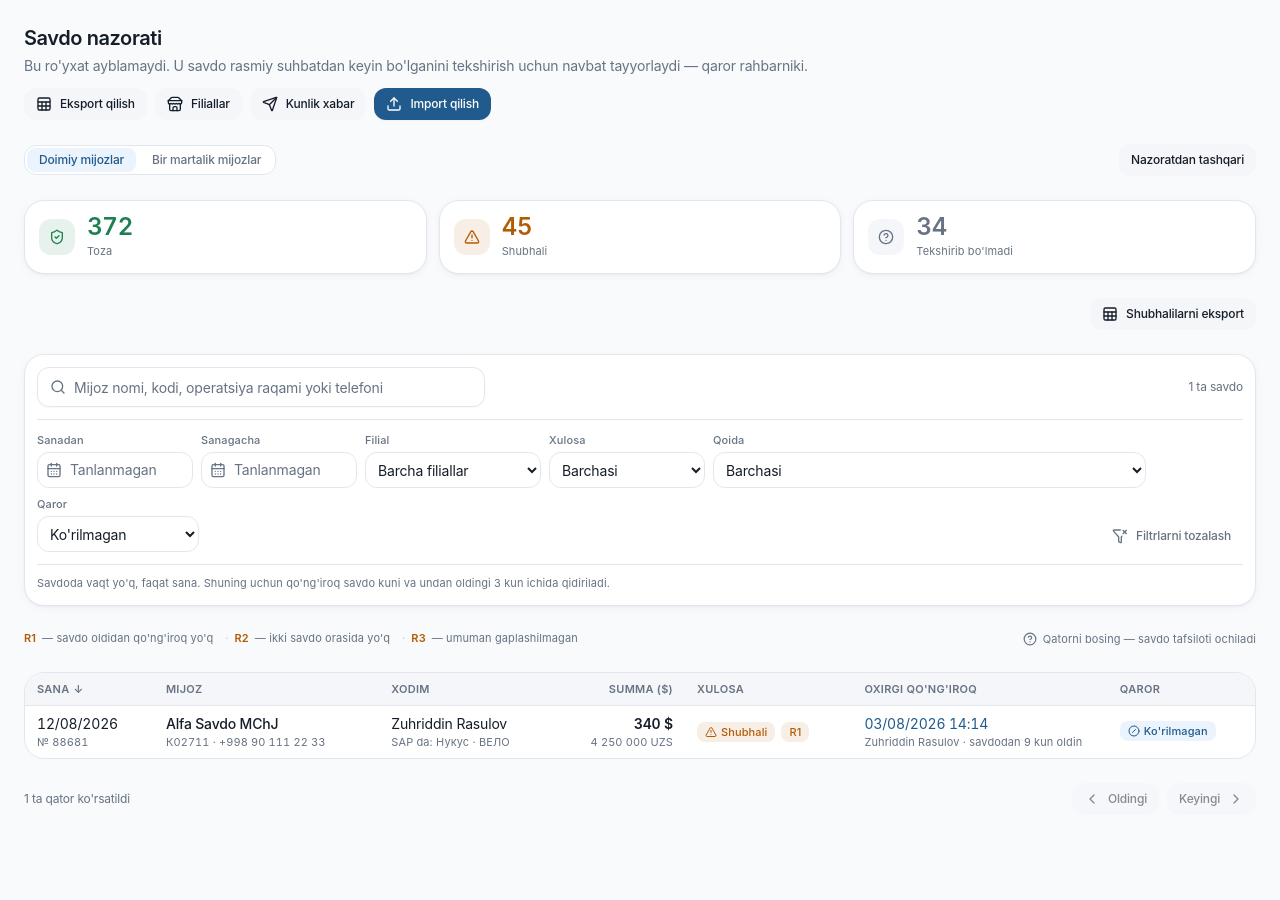
Test: the sale card › asks the chain for THIS customer, unfiltered and not only-suspicious
This screenshot has width=1280, height=900.
Click the text "№ 88681" at (63, 742), box top-left (37, 735), bottom-right (88, 749)
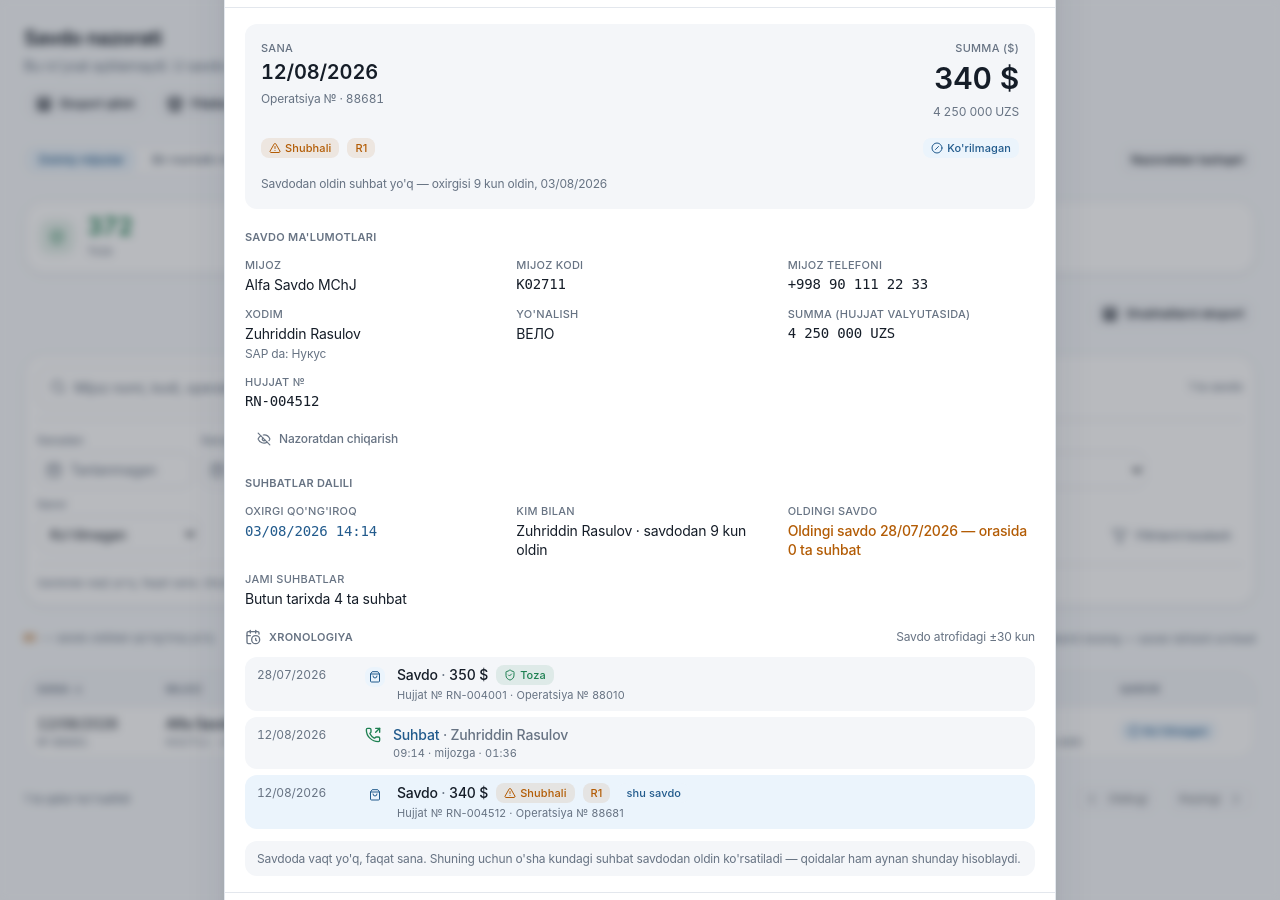
expect the heading "Savdo ma'lumotlari" is shown: met, box top-left (245, 230), bottom-right (376, 244)
expect the text "К02711" is shown: met, box top-left (516, 276), bottom-right (566, 292)
